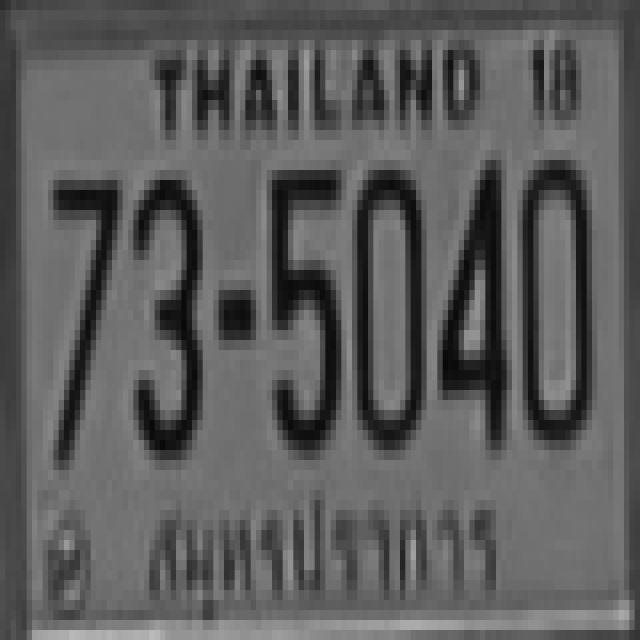0: (522, 158, 592, 448), (354, 168, 423, 448)
3: (132, 175, 202, 455)
4: (438, 156, 508, 446)
5: (270, 163, 340, 453)
7: (48, 170, 117, 460)
SamutPrakan: (134, 491, 506, 631)
